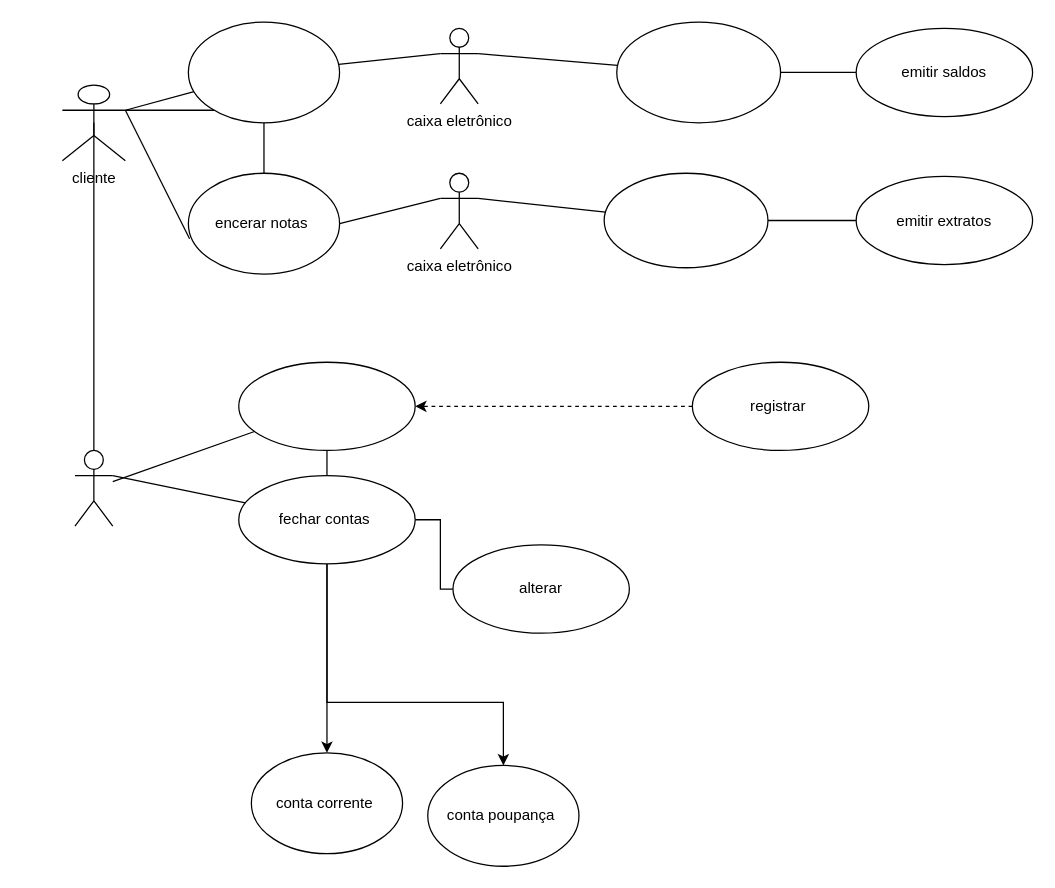
Image size: 1055x888. Some labels were removed from this diagram. The centre of each missing label's shape, as x and y in pixels:
abrir contas: pixel 326 405
abrir notas: pixel 263 72
depositar: pixel 698 72
funcionário do banco: pixel 93 487
sacar: pixel 685 220
